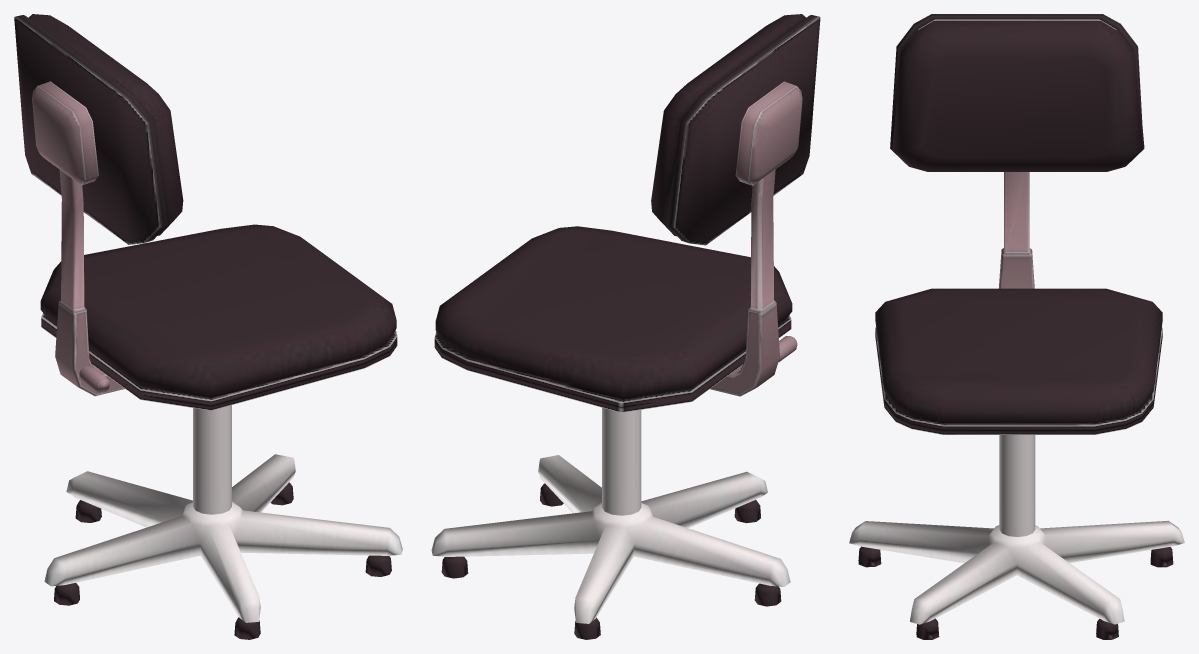
File: silla.obj
3 views of the same model, side by side, from view 1: azimuth 30°, elevation 25°; view 2: azimuth 150°, elevation 25°; view 3: azimuth 270°, elevation 25° (orthographic). The views are drawn at different scales.
Visible parts, largest first — view 1: chair; view 2: chair; view 3: chair.
Part boxes in pixels (bbox=[...]): chair: bbox=[14, 14, 402, 639]; chair: bbox=[431, 14, 820, 639]; chair: bbox=[849, 14, 1184, 639].
Bounding box in the file's own units: 1.72 × 2.96 × 1.79.
1 material, 1 textured.
